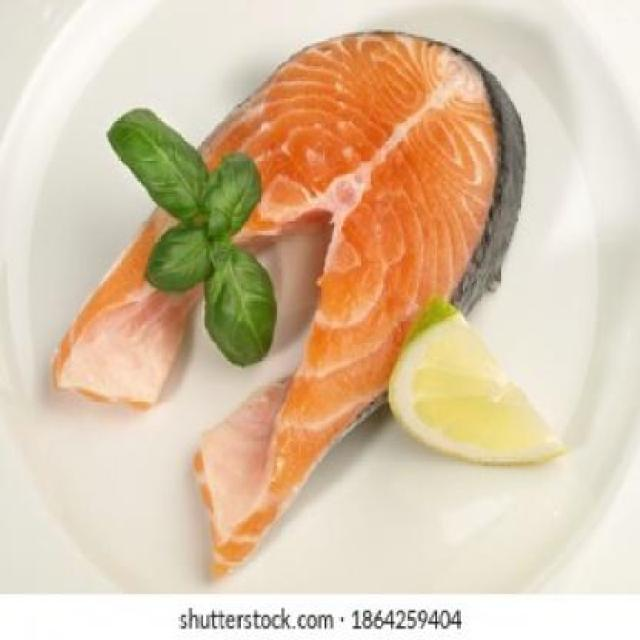salmon: (37, 26, 537, 582)
